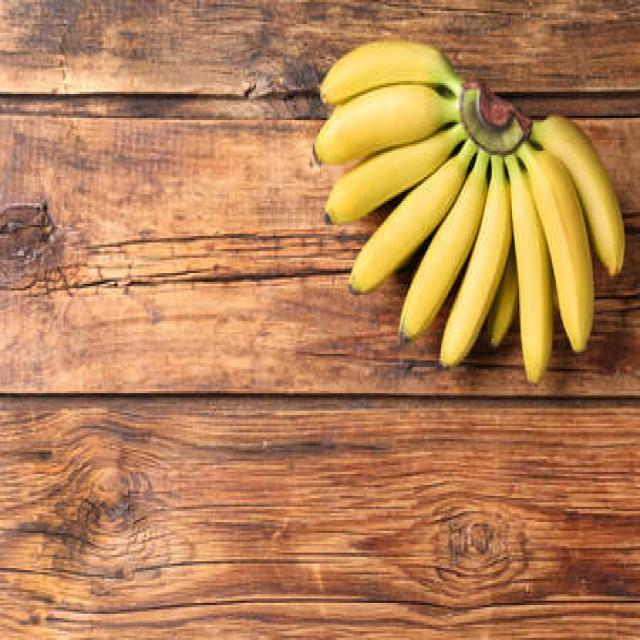banana: (310, 37, 632, 394)
